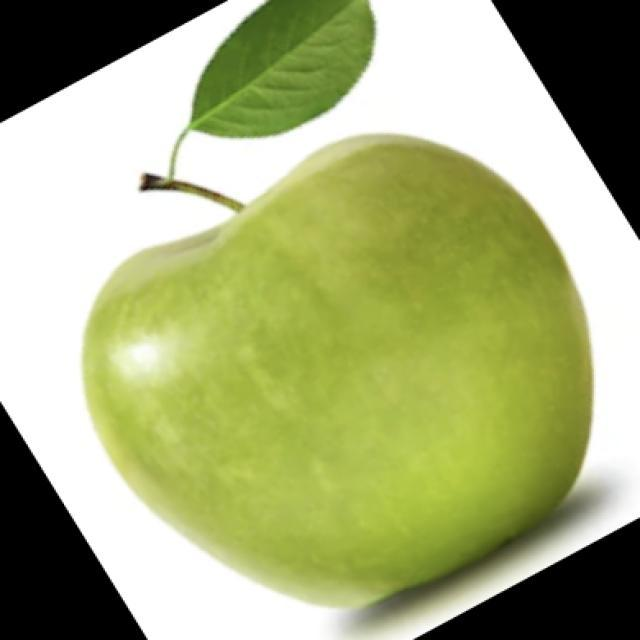Apple: (80, 131, 594, 611)
